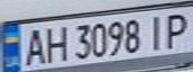0: (90, 19, 109, 57)
3: (69, 20, 93, 61)
8: (121, 16, 145, 54)
9: (106, 18, 127, 56)
A: (18, 25, 48, 66)
H: (39, 24, 69, 64)
I: (142, 11, 172, 51)
P: (160, 10, 193, 49)
